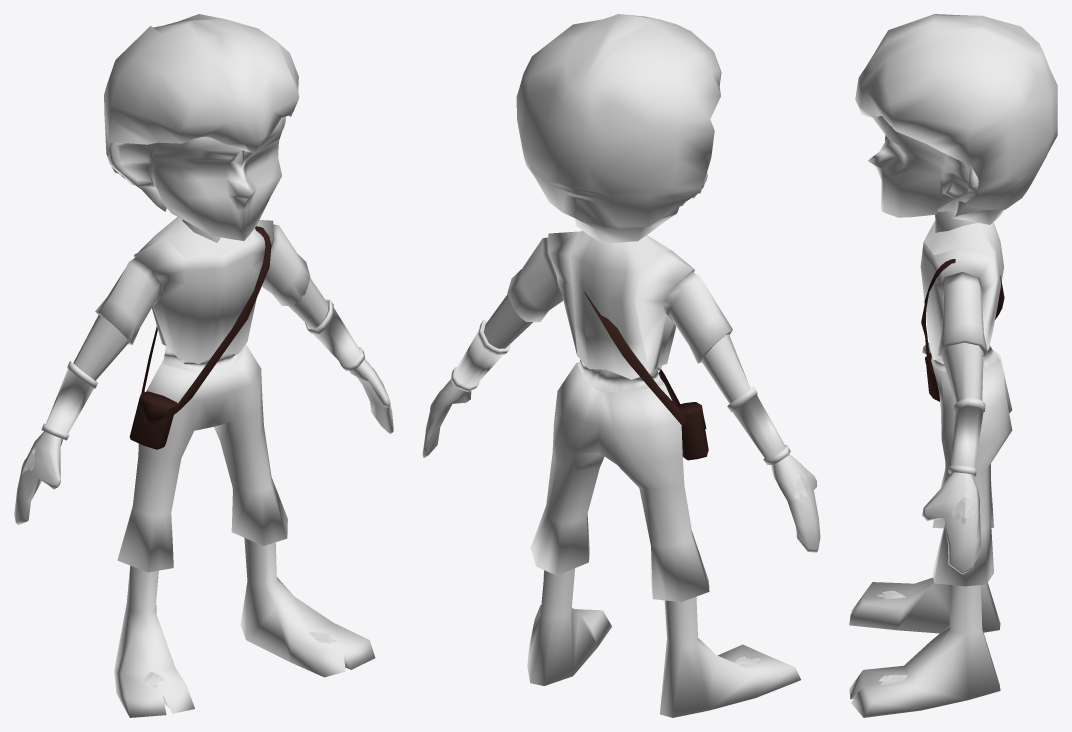
File: Karakter.fbx
The picture shows the model from 3 angles, left to right: view 1: azimuth 30°, elevation 25°; view 2: azimuth 150°, elevation 25°; view 3: azimuth 270°, elevation 25°; orthographic projection. The views are drawn at different scales.
Parts seen in each view (by area): view 1: Kiyafet, Vucut, Sac, Kafa, Canta, Tuy; view 2: Kiyafet, Sac, Vucut, Canta; view 3: Sac, Vucut, Kiyafet, Kafa, Canta, Tuy.
Boxes of the visible parts, x1,y1,x2,y2 form: Kiyafet: (41,217,364,572); Vucut: (14,219,393,717); Sac: (104,14,299,211); Kafa: (108,116,285,240); Canta: (129,226,271,449); Tuy: (21,368,384,687); Kiyafet: (451,230,790,601); Sac: (516,14,721,242); Vucut: (422,294,820,717); Canta: (584,292,708,460); Sac: (855,14,1057,224); Vucut: (849,210,1000,717); Kiyafet: (920,221,1012,586); Kafa: (868,116,978,217); Canta: (921,259,1004,401); Tuy: (877,492,974,685).
Bounding box in the file's own units: 151 × 241 × 71.82.
